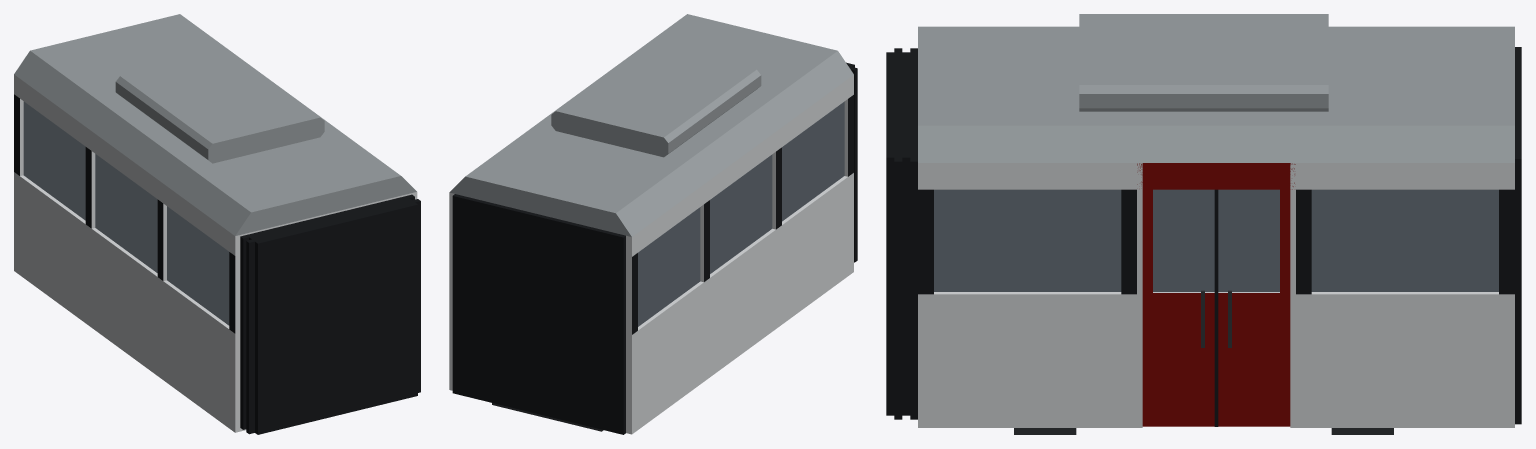
3 views of the same model, side by side, from view 1: azimuth 30°, elevation 25°; view 2: azimuth 150°, elevation 25°; view 3: azimuth 270°, elevation 25° (orthographic). The views are drawn at different scales.
Visible parts, largest first — view 1: 52t-c; view 2: 52t-c; view 3: 52t-c.
Boxes of the visible parts, bbox=[...] form: 52t-c: bbox=[14, 14, 420, 434]; 52t-c: bbox=[449, 14, 857, 434]; 52t-c: bbox=[886, 14, 1521, 434].
Bounding box in the file's own units: 2.5 × 3.26 × 5.6.
